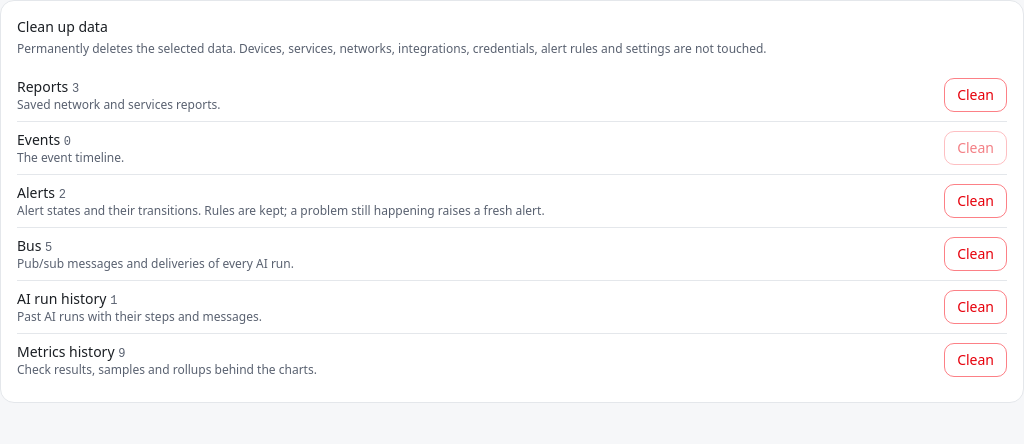
Test: data clean-up › cleans one kind of data after confirmation
What coordinates should you click on to do the following:
click the button with aria-label "Clean Reports"
I would click on:
 (976, 95)
Its box is [944,78,1007,112].
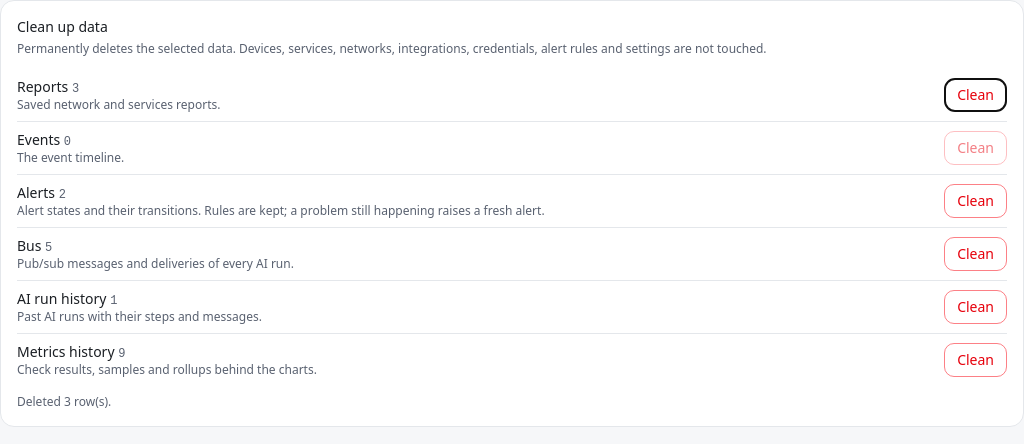
Check: the button with aria-label "Clean Events" is disabled, box [944,131,1007,165]
Check: the text "Deleted 3 row(s)." is shown, box [17,393,111,410]
